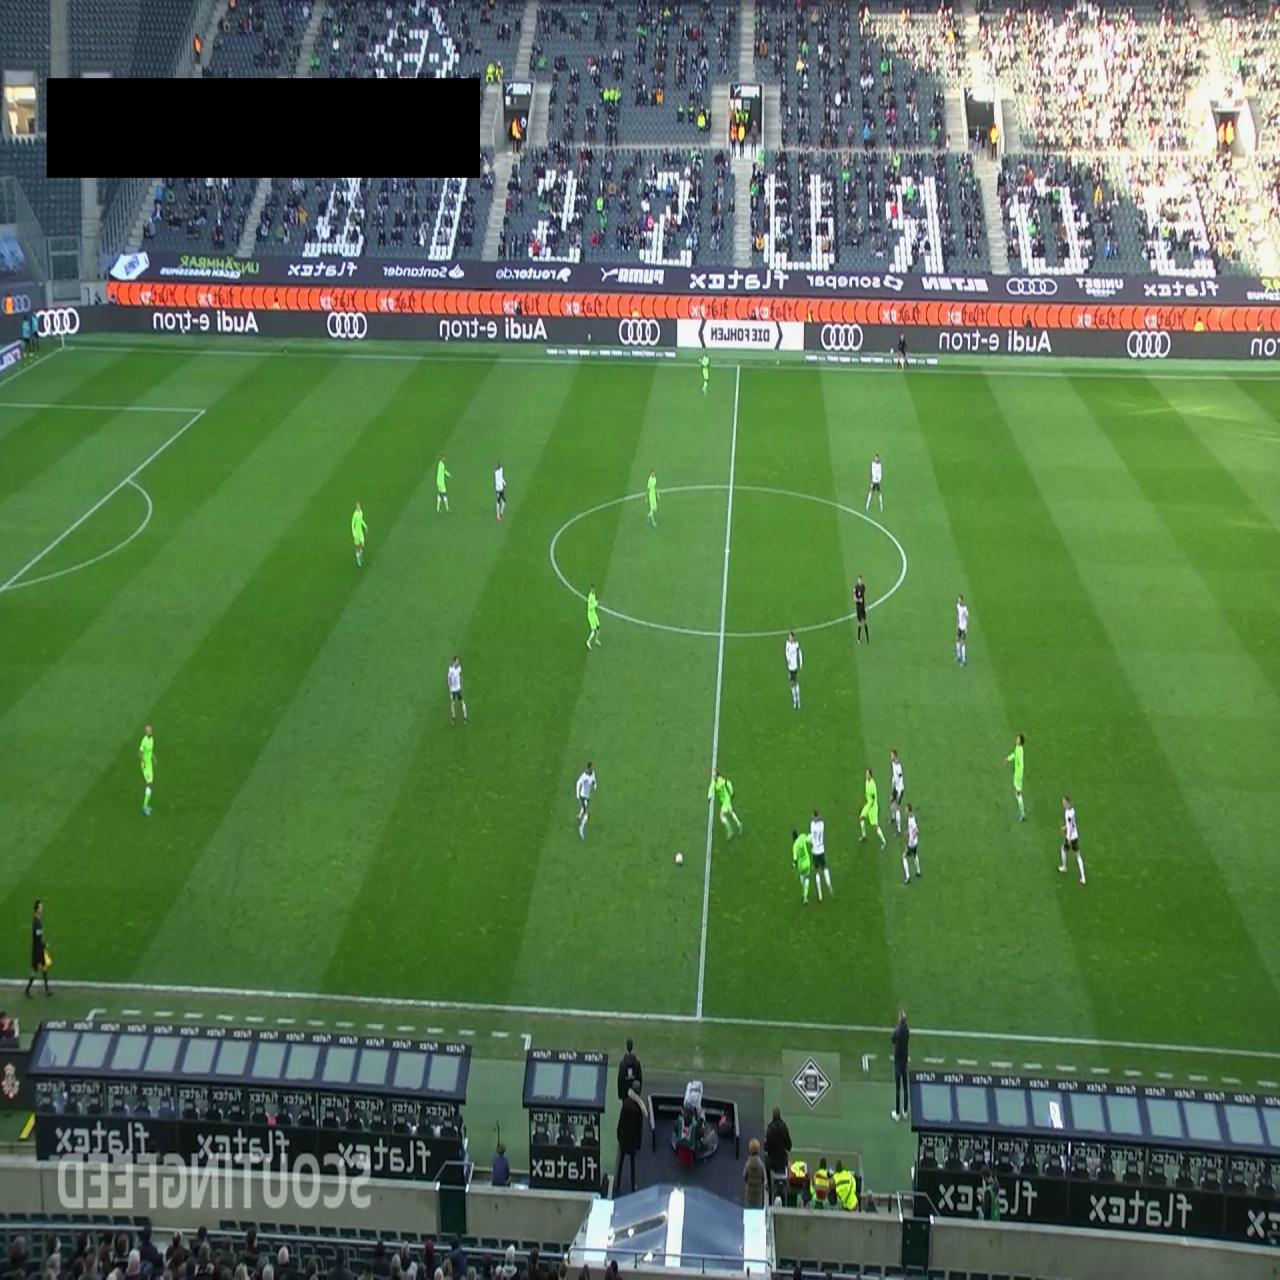ball: (674, 851, 682, 865)
player: (1058, 793, 1087, 884), (808, 806, 835, 902), (706, 768, 742, 839), (858, 766, 887, 850), (1003, 732, 1027, 822), (138, 722, 157, 815), (576, 760, 597, 840), (902, 804, 922, 884), (792, 828, 812, 906), (447, 653, 468, 725), (785, 629, 803, 710), (889, 748, 905, 835), (351, 499, 369, 568), (585, 582, 602, 651), (865, 452, 884, 512), (436, 453, 454, 513), (956, 594, 970, 666), (646, 467, 659, 529), (494, 460, 506, 521), (699, 346, 711, 399)
referee: (25, 898, 53, 999), (853, 572, 870, 646), (897, 333, 908, 370)
